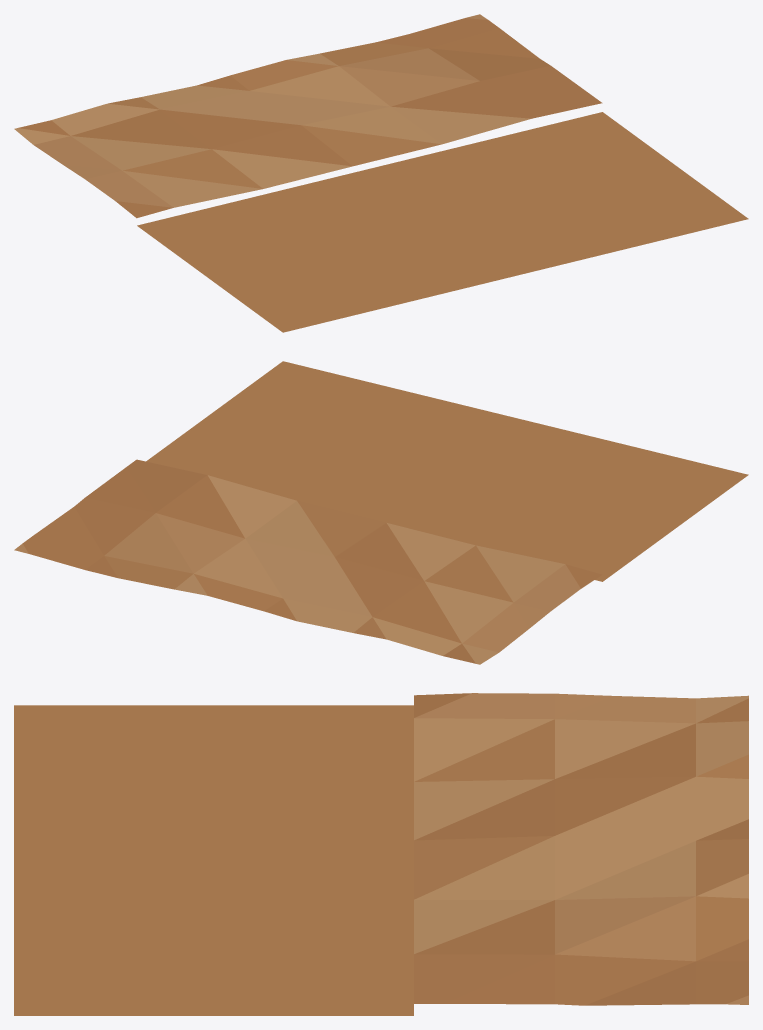
3 renders of one model, top to bottom at view 1: azimuth 30°, elevation 25°; view 2: azimuth 150°, elevation 25°; view 3: azimuth 270°, elevation 25°, orthographic. The views are drawn at different scales.
Visible parts, largest first — view 1: baked; view 2: baked; view 3: baked.
Boxes of the visible parts, x1,y1,x2,y2 form: baked: (14, 14, 748, 332); baked: (14, 361, 748, 664); baked: (14, 693, 748, 1015).
Bounding box in the file's own units: 62.5 × 1.34 × 62.5.
